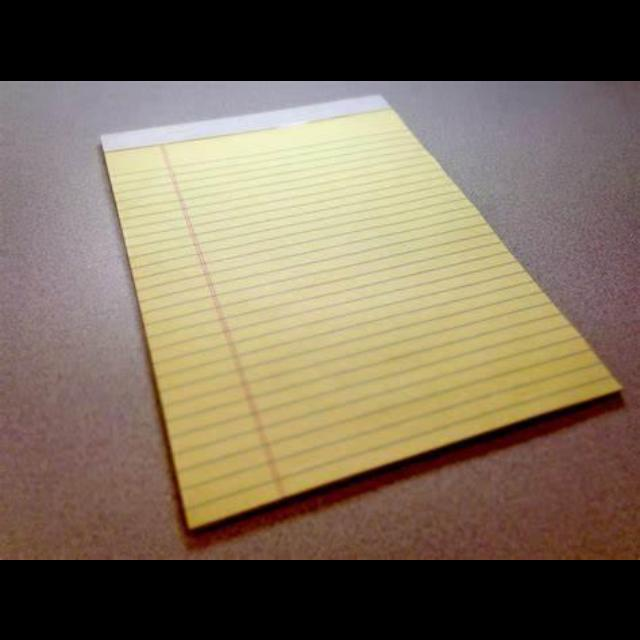papel: (99, 93, 623, 531)
